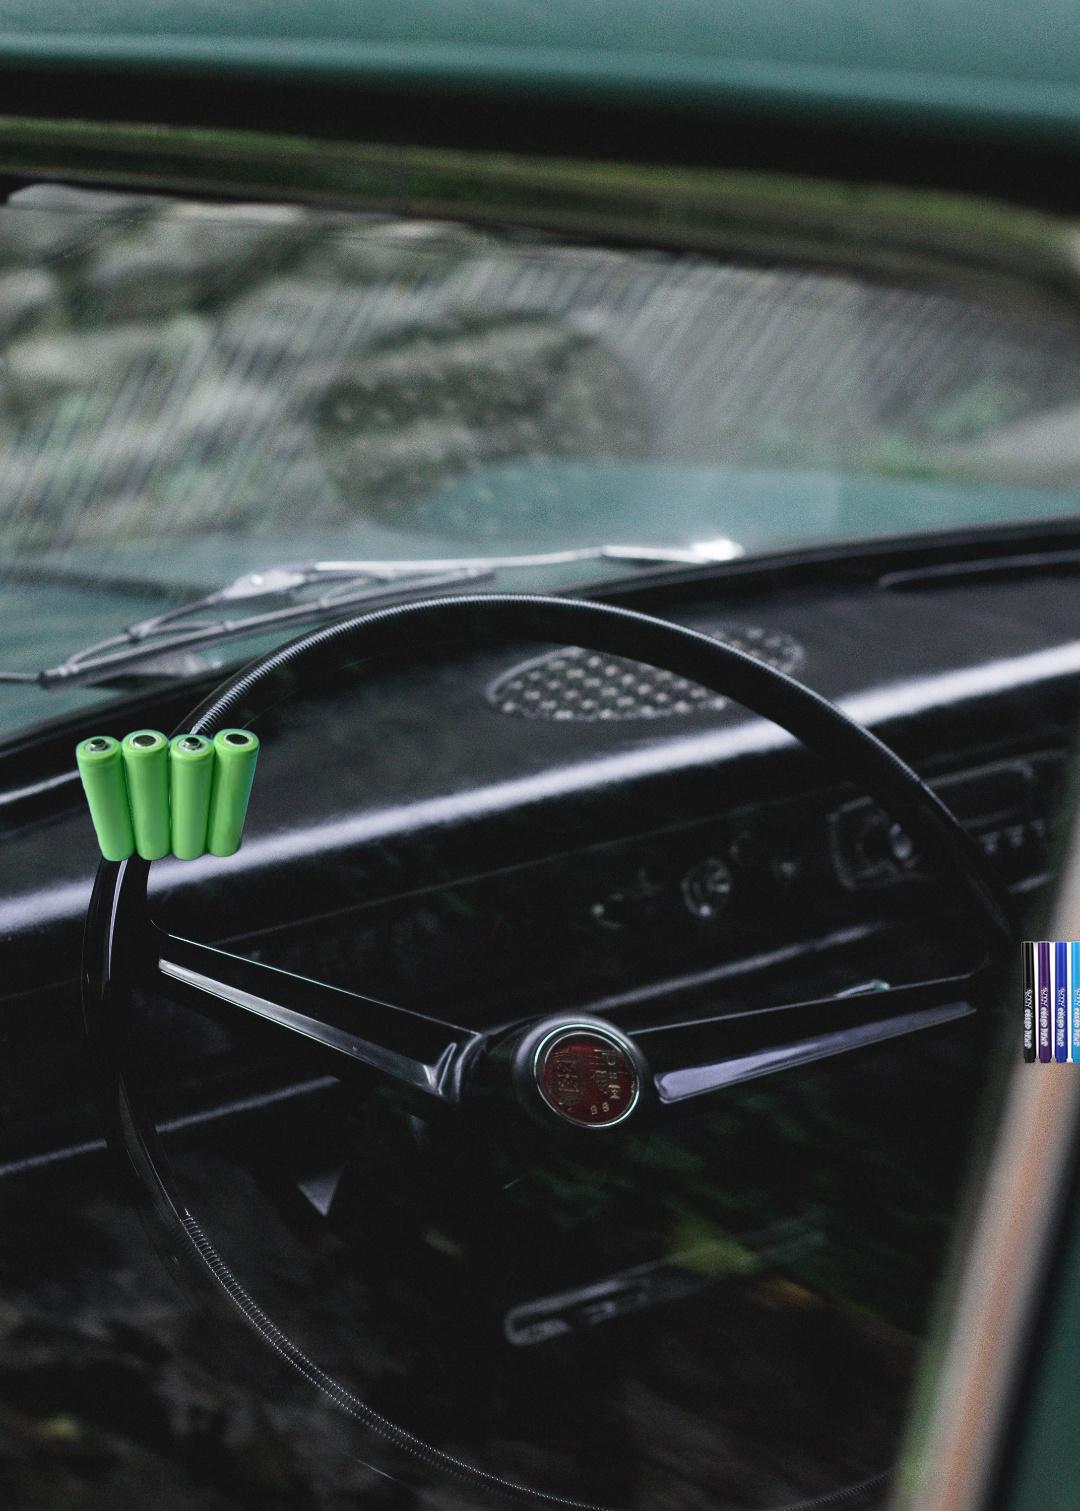battery: (72, 725, 263, 865)
penholder: (1018, 938, 1080, 1074)
